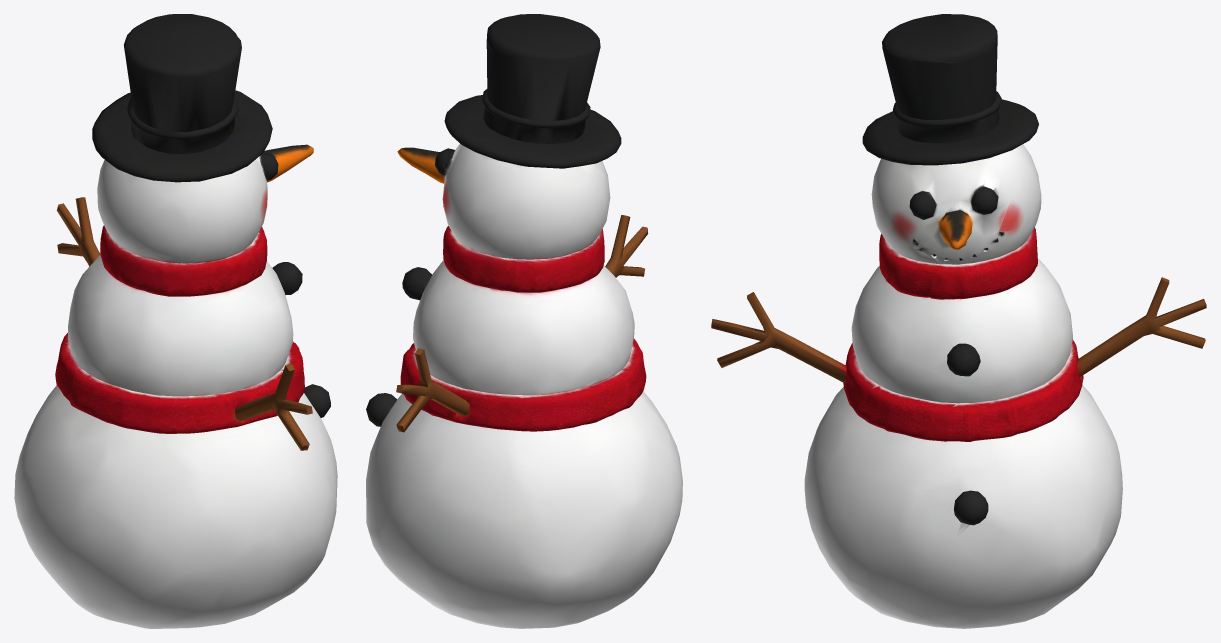
The model's file is snowman.glb.
The picture shows the model from 3 angles, left to right: view 1: azimuth 30°, elevation 25°; view 2: azimuth 150°, elevation 25°; view 3: azimuth 270°, elevation 25°; orthographic projection.
Visible parts, largest first — view 1: tripo_node_b081bfa8-fc8a-4866-b154-d6a356cc7bde; view 2: tripo_node_b081bfa8-fc8a-4866-b154-d6a356cc7bde; view 3: tripo_node_b081bfa8-fc8a-4866-b154-d6a356cc7bde.
Boxes of the visible parts, x1,y1,x2,y2 form: tripo_node_b081bfa8-fc8a-4866-b154-d6a356cc7bde: [14, 14, 337, 628]; tripo_node_b081bfa8-fc8a-4866-b154-d6a356cc7bde: [366, 14, 682, 628]; tripo_node_b081bfa8-fc8a-4866-b154-d6a356cc7bde: [711, 14, 1206, 628].
Bounding box in the file's own units: 0.7026 × 1.3 × 1.04.
1 material, 1 textured.
